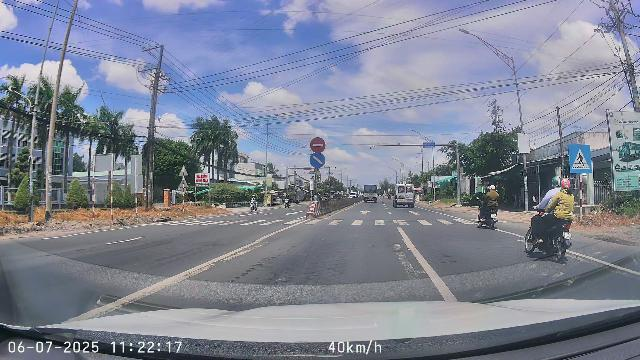102-cam-di-nguoc-chieu: (310, 137, 326, 153)
302a-huong-phai-di-vong-chuong-ngai-vat-1: (309, 153, 326, 168)
423a-duong-nguoi-di-bo-sang-ngang-1: (569, 144, 592, 173)
